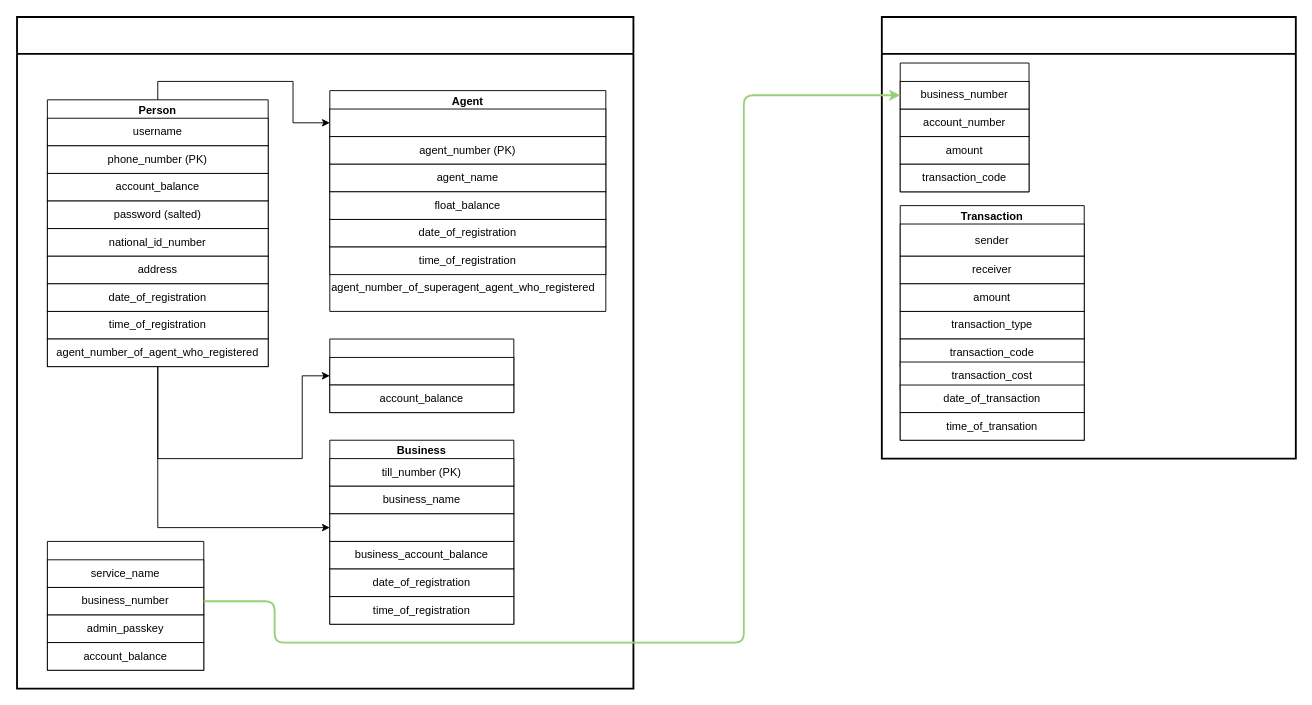
Some shapes in this 1312 by 705 pixel diagram are drawn without their labels. The box of each missing label's shape, as (x1, y1, x2, y2) in pixels:
business_owner: Person: (329, 513, 514, 541)
PayBillAPIDatabase: (899, 62, 1029, 192)
PayBillServiceMerchant: (46, 540, 204, 670)
phone_number: (329, 356, 514, 385)
PochiLaBiashara: (329, 338, 514, 413)
registered_user: Person: (329, 108, 606, 137)
TRANSACTIONS ARCHITECTURE: (880, 16, 1296, 459)
USERS ARCHITECTURE: (16, 16, 634, 689)
